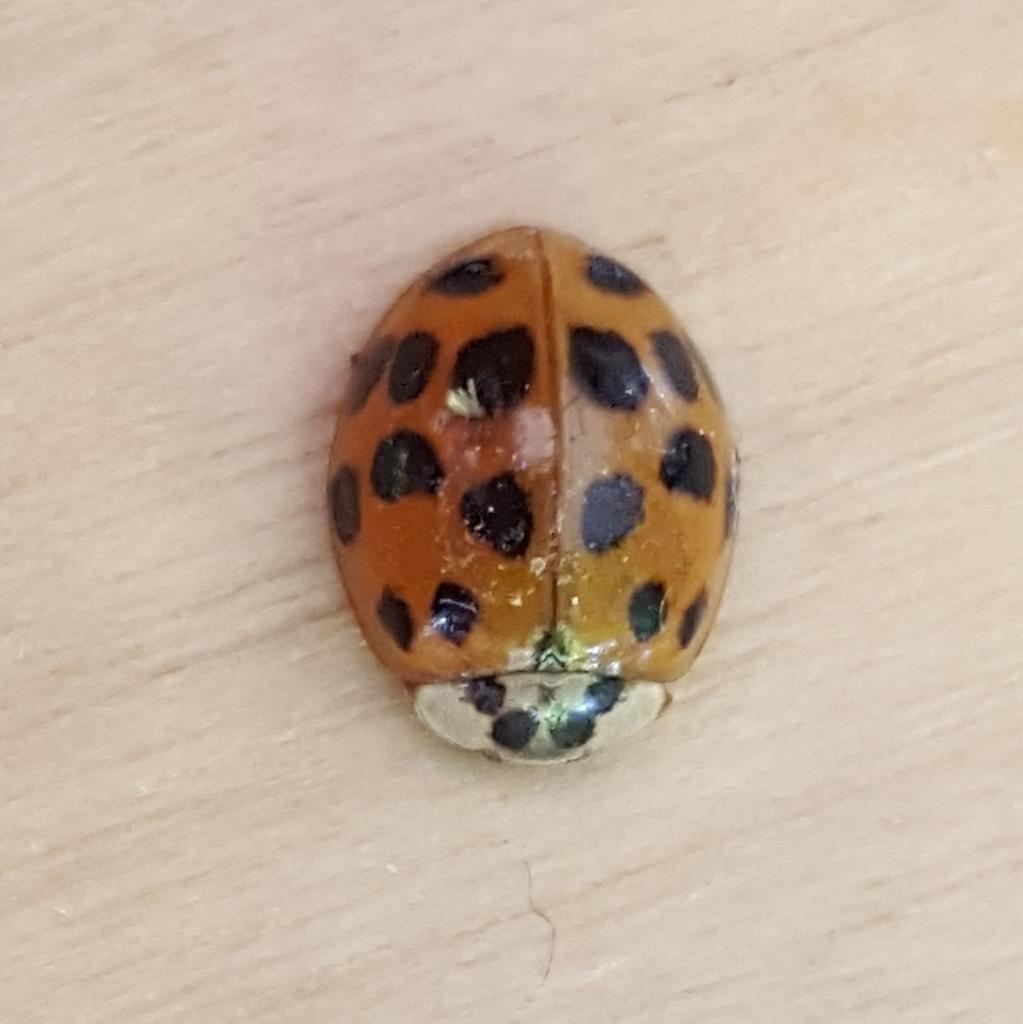ladybug: (326, 224, 746, 771)
